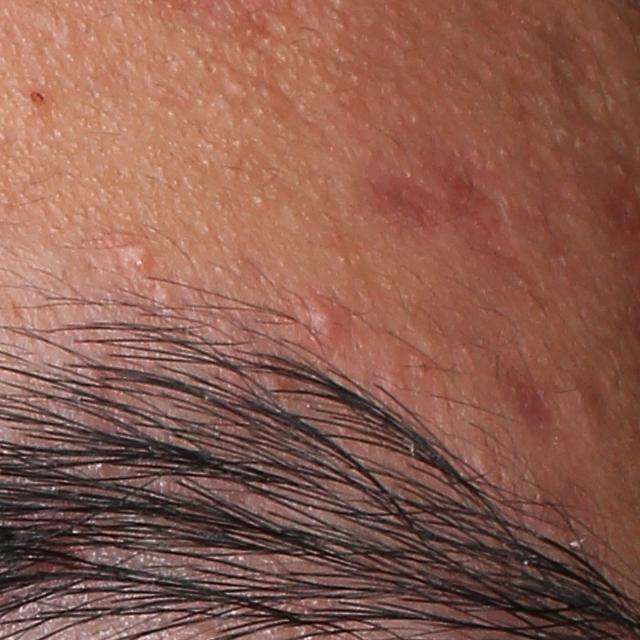comedo: (153, 283, 174, 308), (26, 90, 46, 110)
papule: (308, 302, 341, 340), (120, 240, 148, 268)
